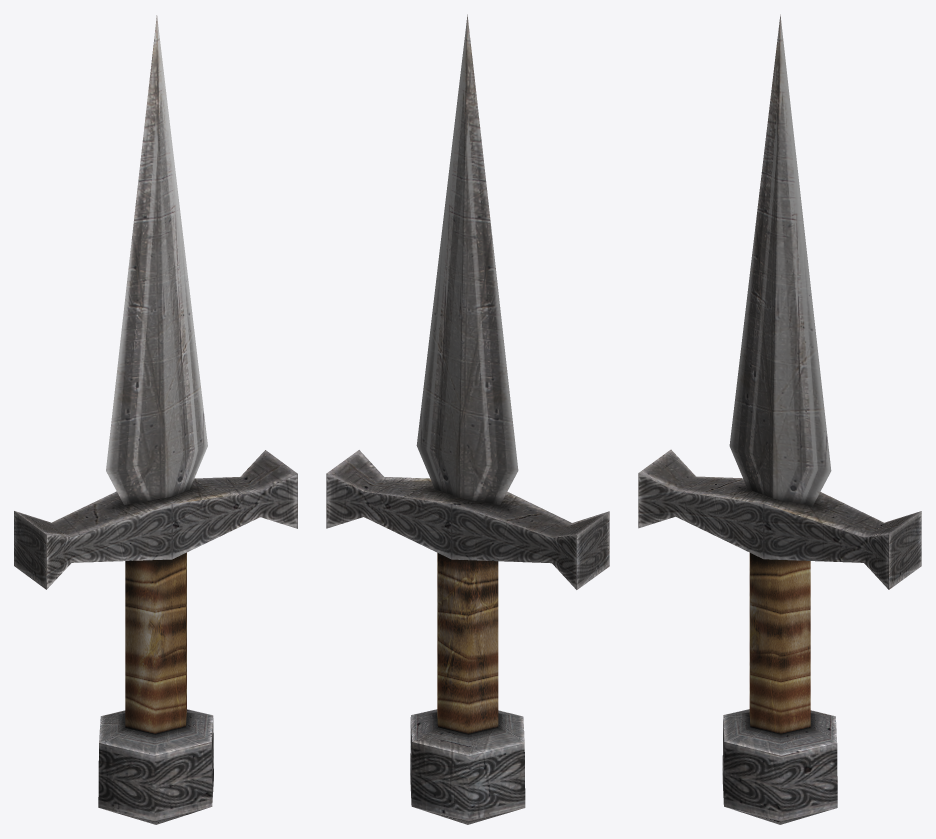
Rendered from dagger01_regular.FBX.
The picture shows the model from 3 angles, left to right: view 1: azimuth 30°, elevation 25°; view 2: azimuth 150°, elevation 25°; view 3: azimuth 330°, elevation 25°; orthographic projection.
Visible parts, largest first — view 1: dagger01; view 2: dagger01; view 3: dagger01.
Boxes of the visible parts, x1,y1,x2,y2 form: dagger01: (14,15,297,824); dagger01: (326,14,609,824); dagger01: (638,14,921,824).
Size of the model in its own units: 0.3327 by 1.03 by 0.1257.
